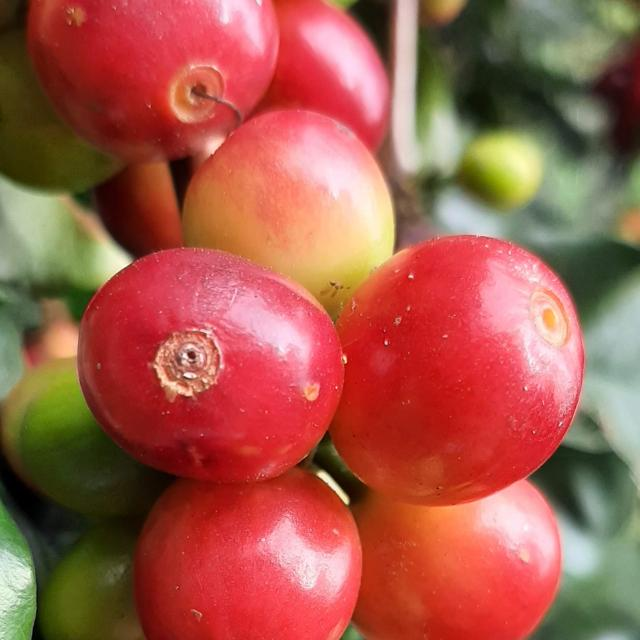red: (330, 235, 586, 507), (76, 248, 344, 483), (26, 0, 279, 162), (133, 469, 362, 640), (257, 0, 391, 150)
yellow: (182, 109, 395, 319), (353, 481, 563, 640)
